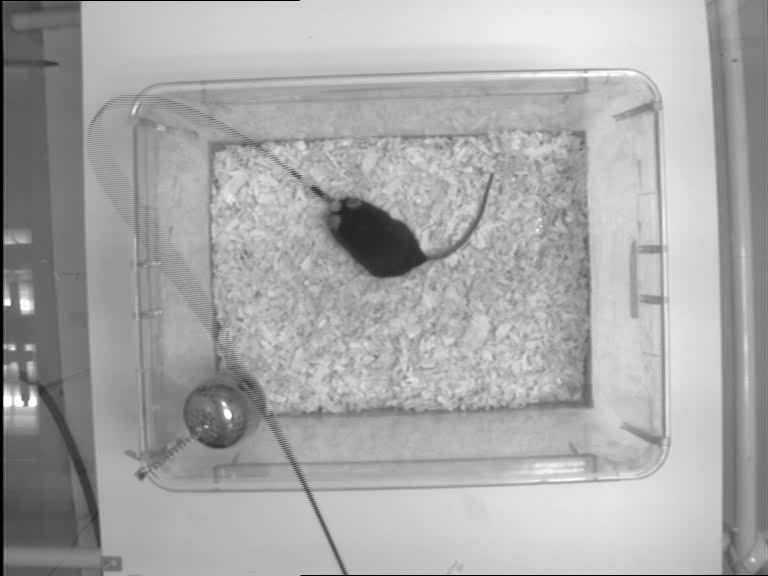mice: (327, 173, 493, 279)
